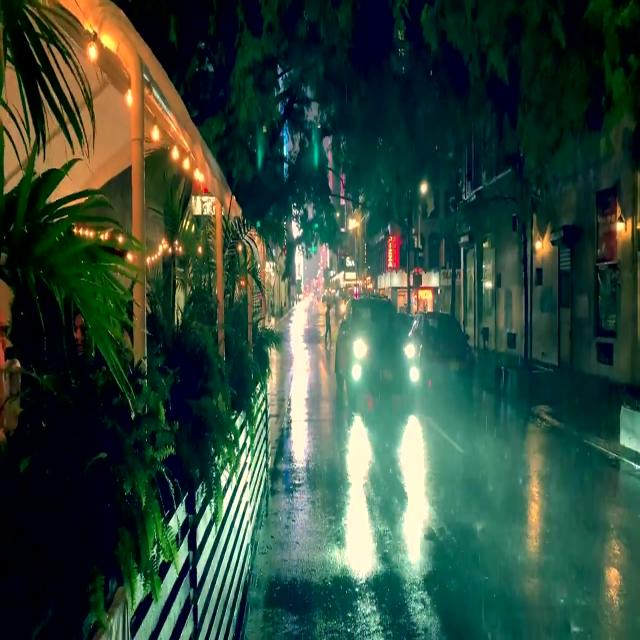Car: (330, 295, 411, 409), (412, 306, 473, 405)
